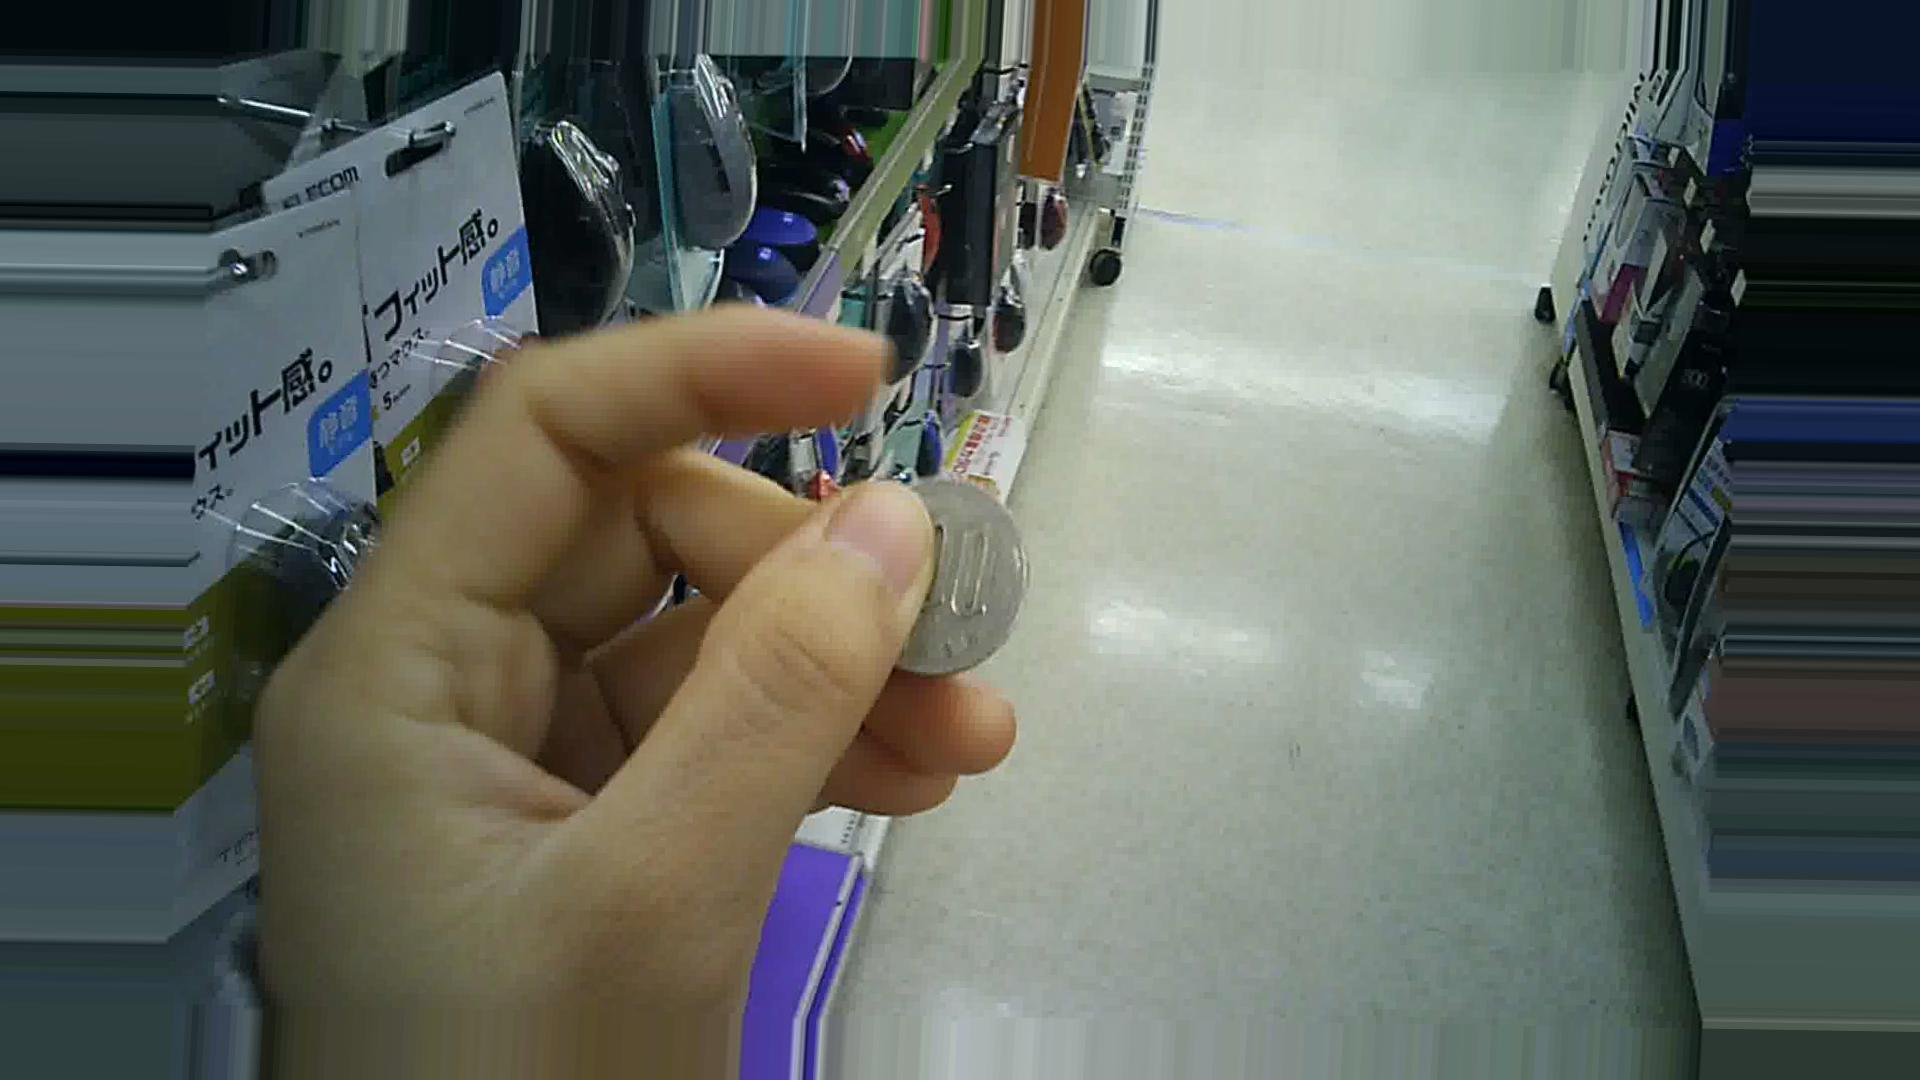100 Yen: (844, 450, 1039, 696)
